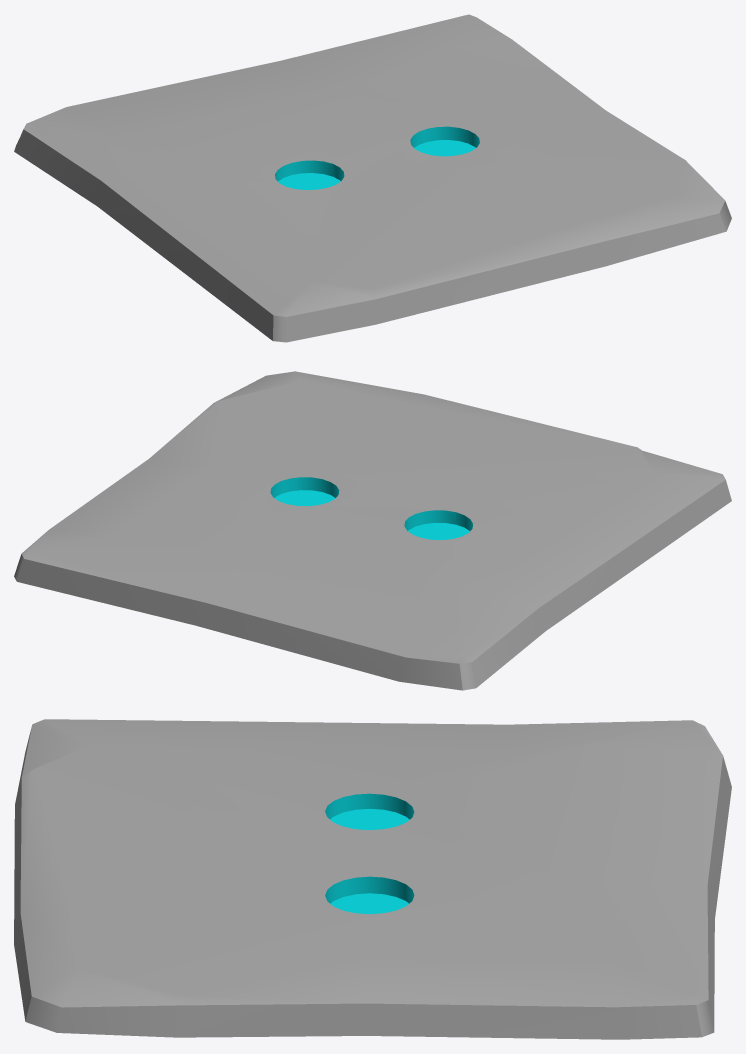
Rendered from dalle2.fbx.
The picture shows the model from 3 angles, top to bottom: view 1: azimuth 30°, elevation 25°; view 2: azimuth 150°, elevation 25°; view 3: azimuth 270°, elevation 25°; orthographic projection. The views are drawn at different scales.
Parts seen in each view (by area): view 1: pCube2; view 2: pCube2; view 3: pCube2.
Part boxes in pixels (x1,y1,x2,y2): pCube2: (14, 14, 731, 342); pCube2: (14, 371, 731, 690); pCube2: (14, 719, 731, 1039).
Size of the model in its own units: 6.99 by 0.4395 by 7.18.
